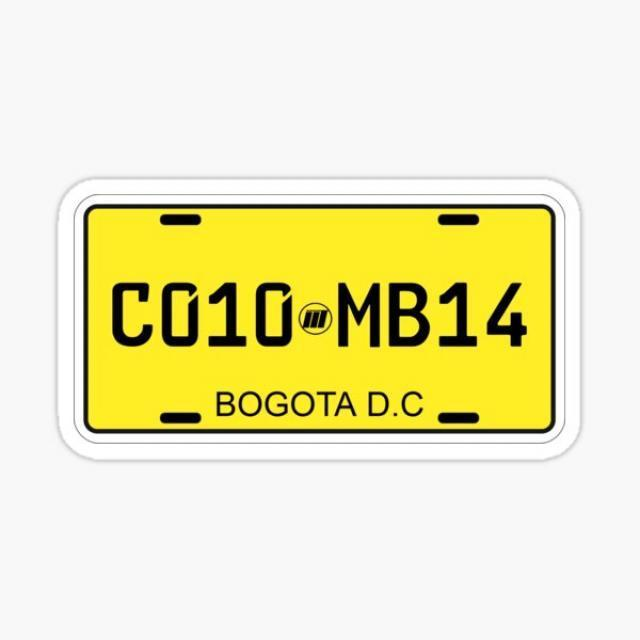License_Plate: (55, 174, 590, 466)
